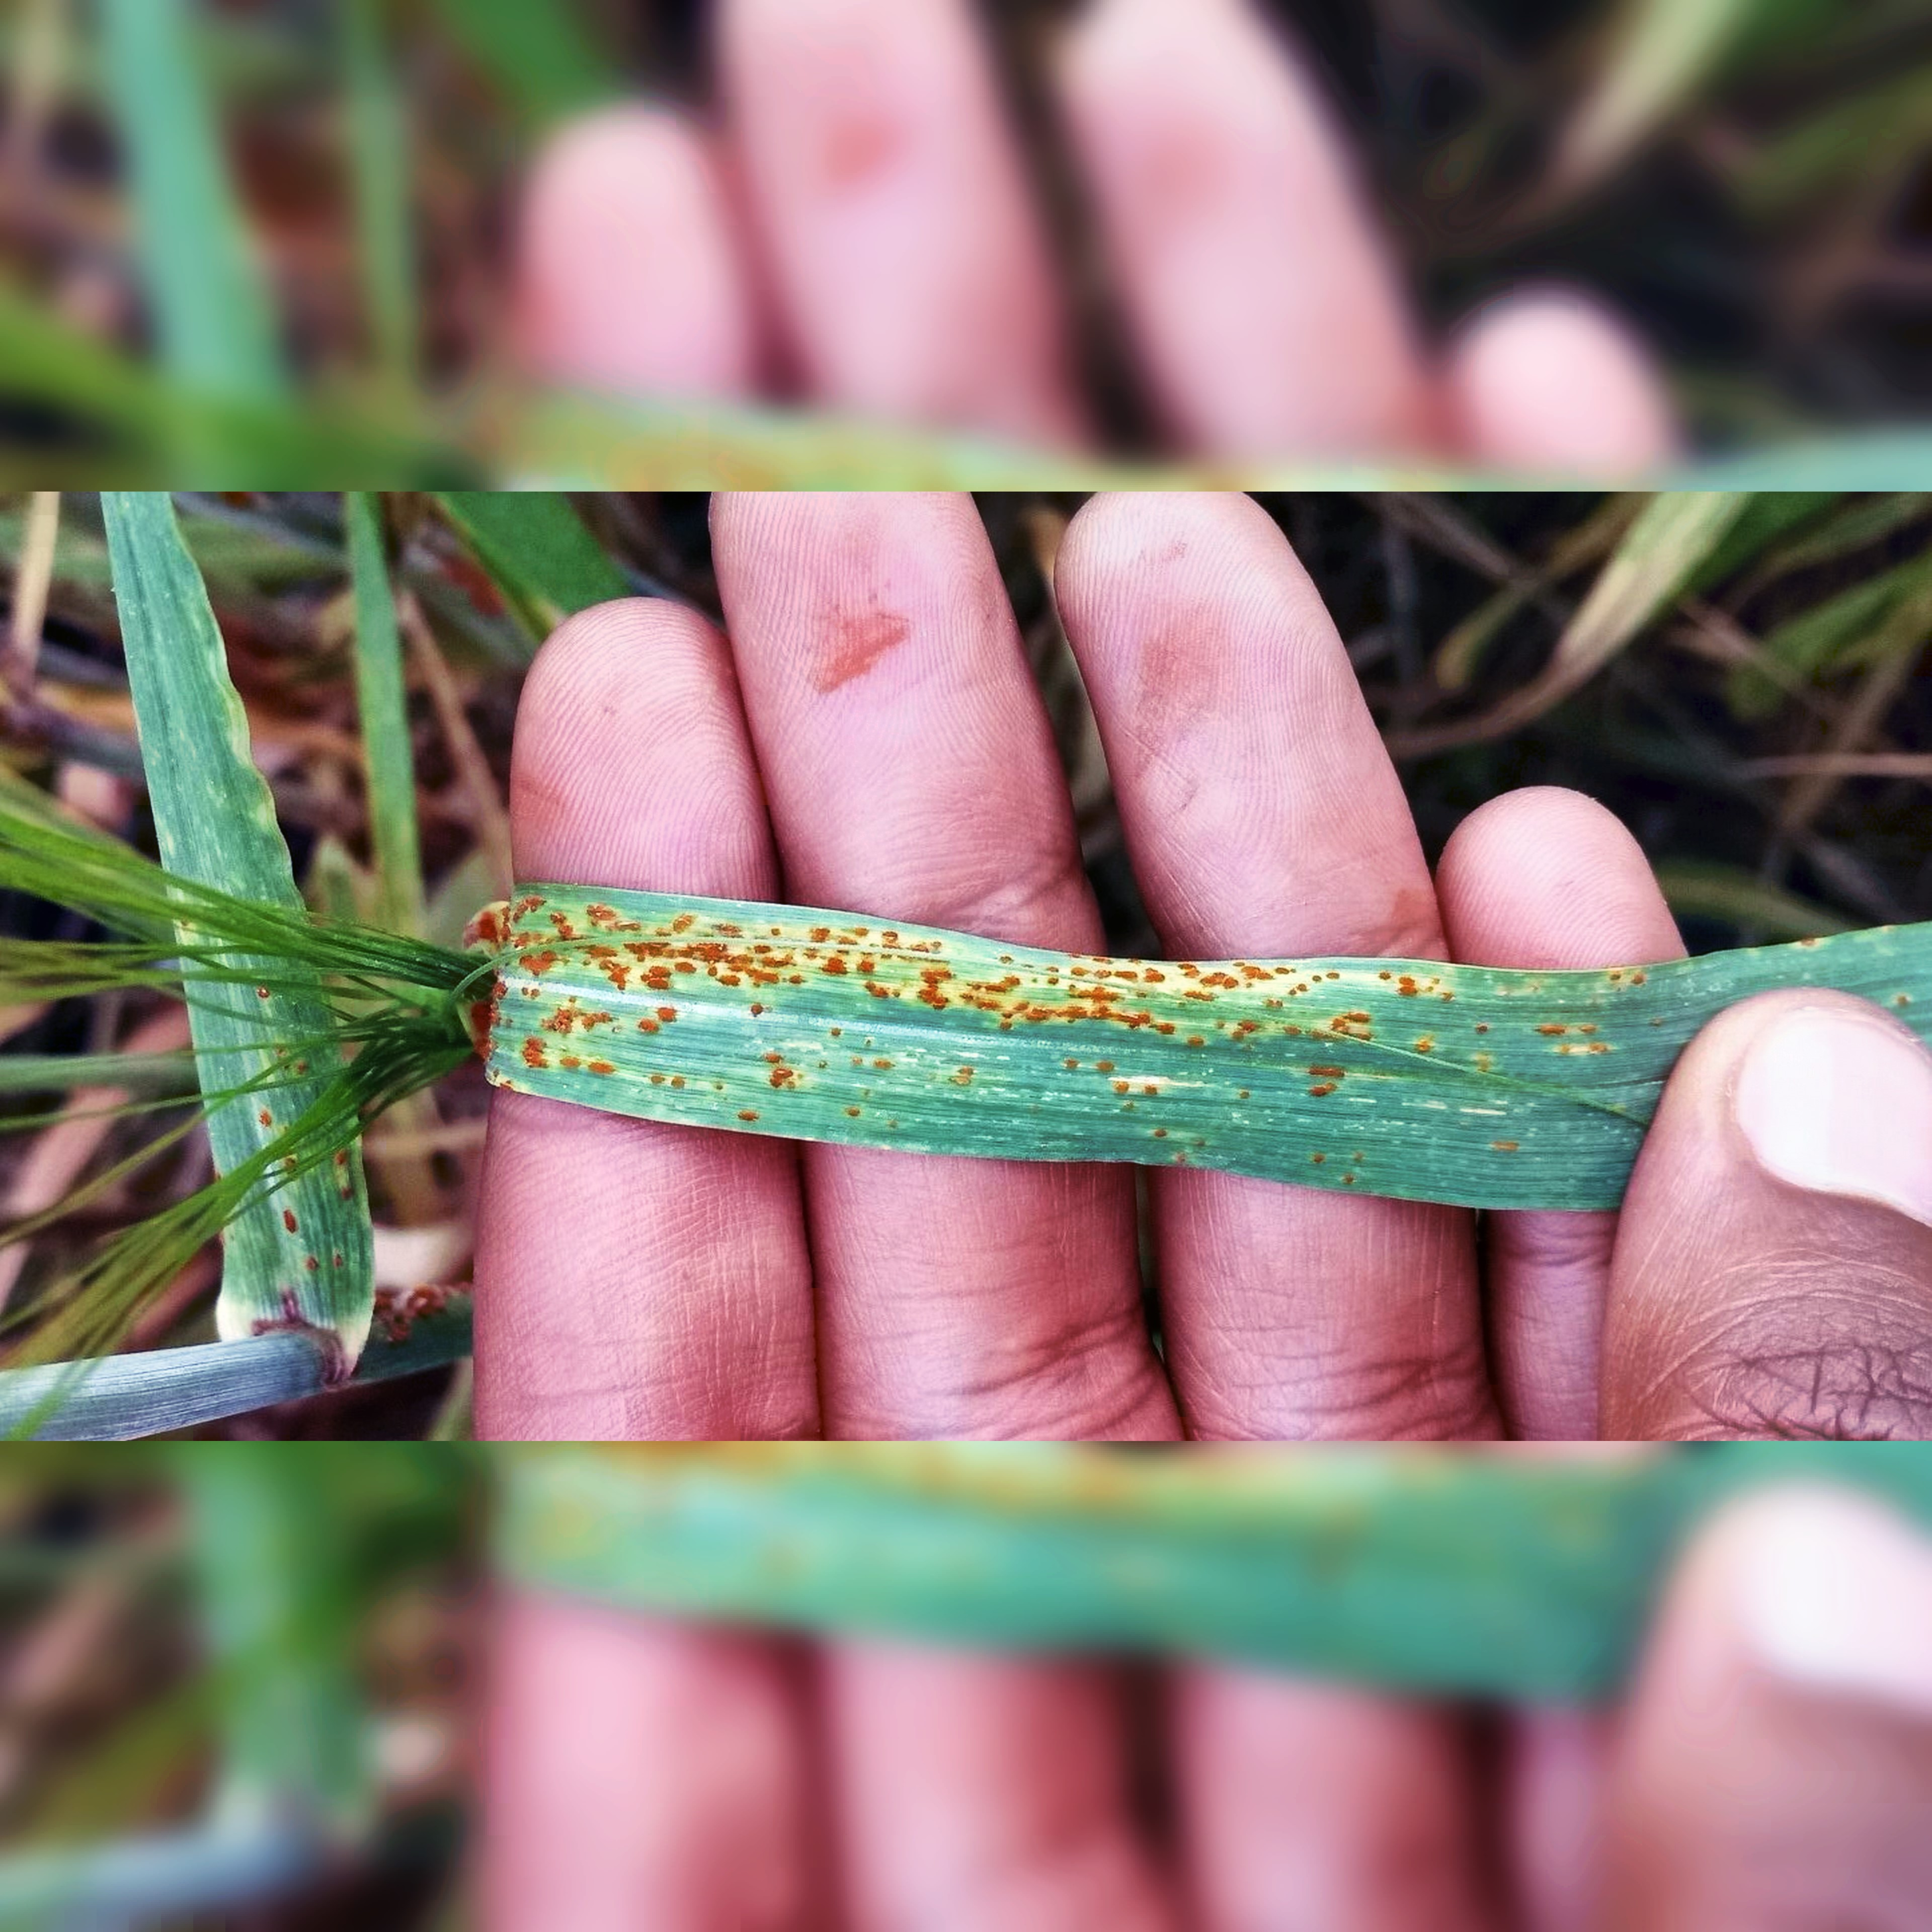Leaf Rust: (449, 874, 1573, 1214)
